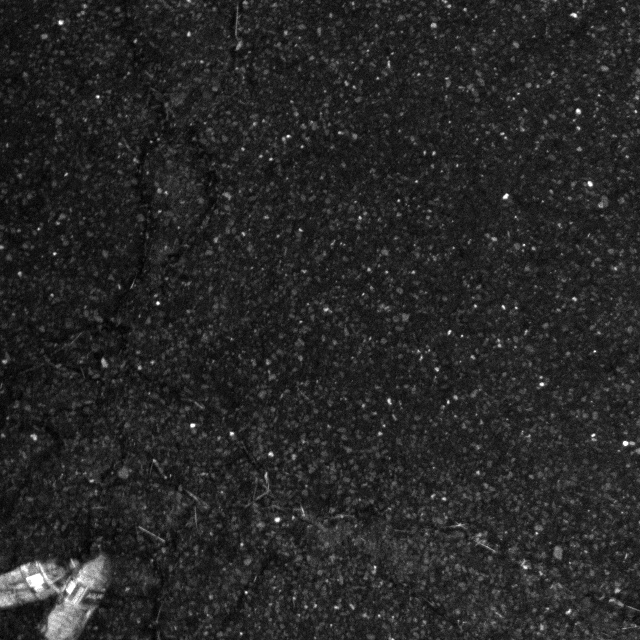bottle: (36, 546, 123, 640), (0, 556, 73, 623)
